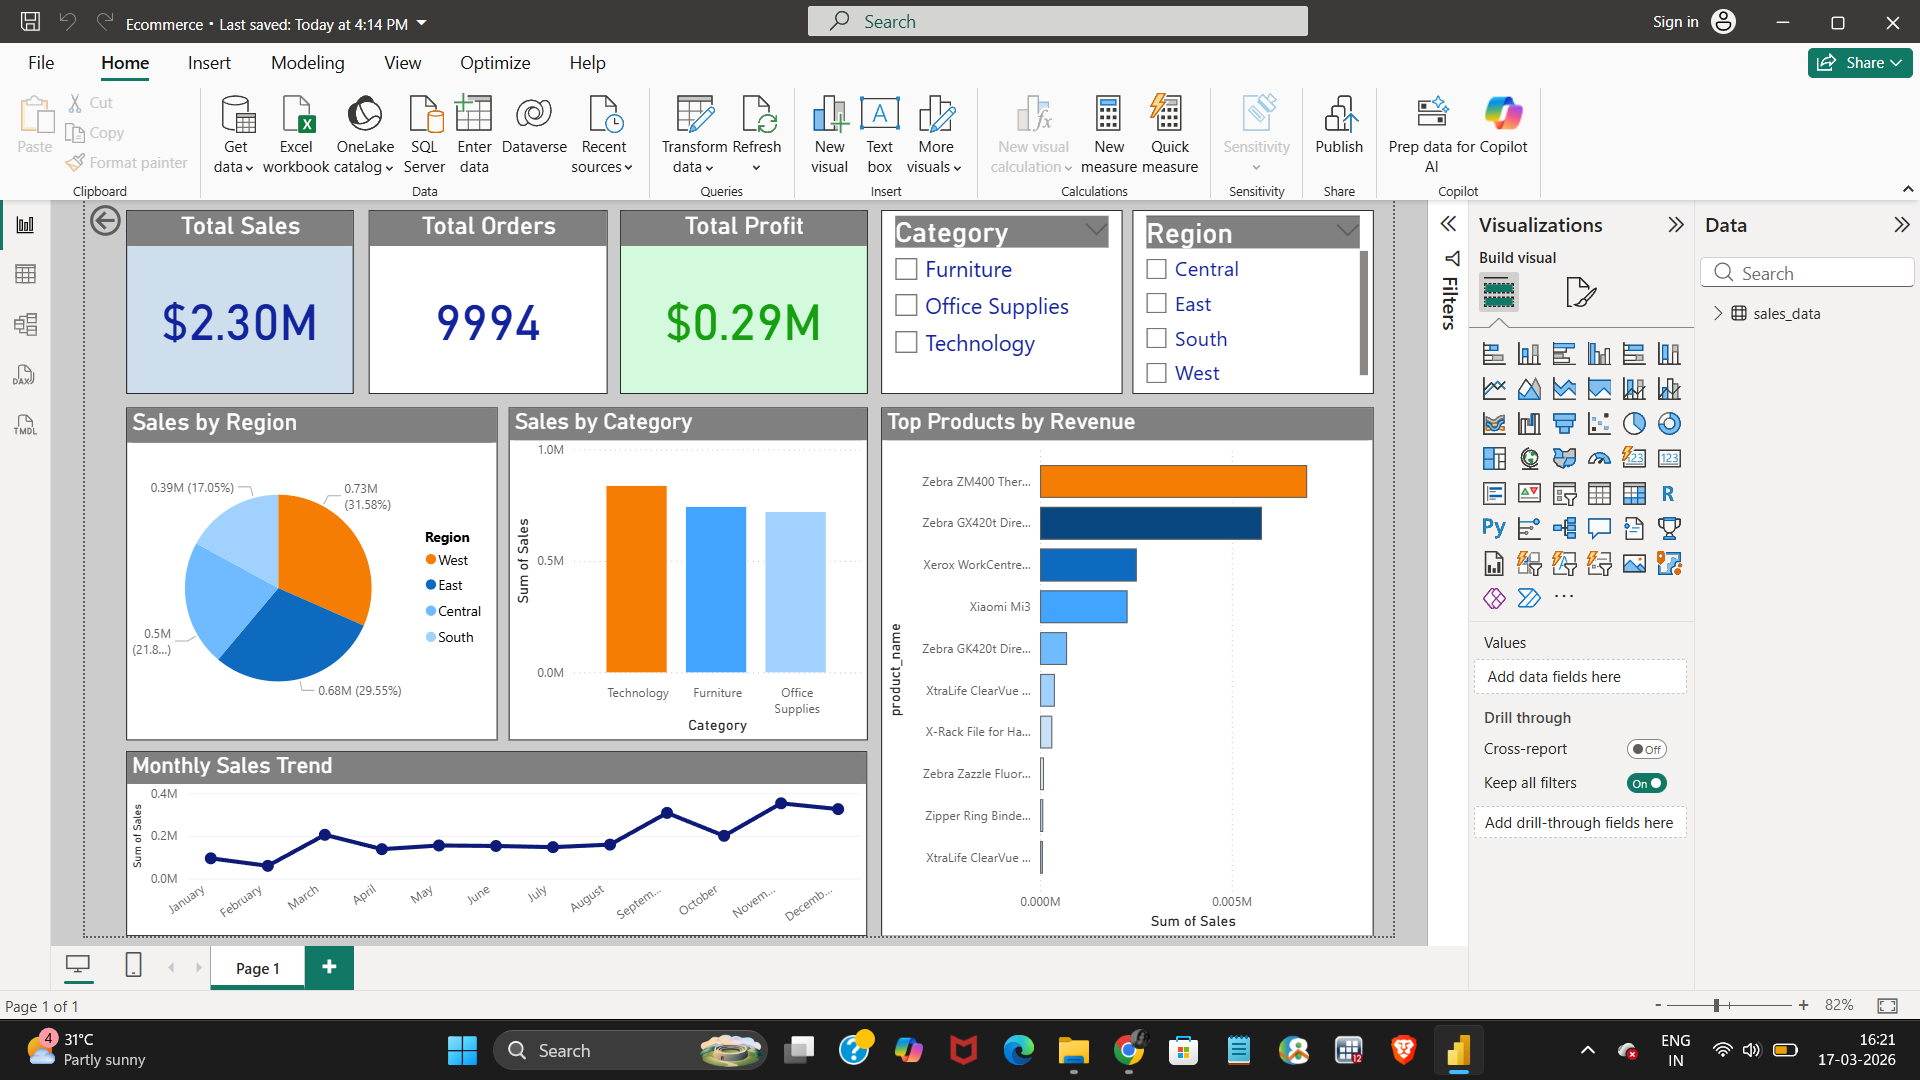

This screenshot's page, from the dashboard's own definition file:
{"tool":"powerbi","page":{"name":"Page 1","canvas":[1280,720],"ordinal":0},"visuals":[{"type":"pieChart","title":"Sales by Region","fields":{"Category":["sales_data.Region"],"Y":["Sum(sales_data.Sales)"]},"box":[40.4,203,363.2,325.3],"z":0},{"type":"actionButton","box":[0,0,100,40],"z":1000},{"type":"lineChart","title":"Monthly Sales Trend","fields":{"Category":["sales_data.order_date.Variation.Date Hierarchy.Month"],"Y":["Sum(sales_data.Sales)"]},"box":[40.4,539.3,725.1,181],"z":2000},{"type":"clusteredBarChart","title":"Top Products by Revenue","fields":{"Category":["sales_data.product_name"],"Y":["Sum(sales_data.Sales)"]},"box":[778.9,203,481.8,517.3],"z":3000},{"type":"card","title":"Total Sales","fields":{"Values":["Sum(sales_data.Sales)"]},"box":[40.4,9.8,222.6,179.8],"z":4000},{"type":"card","title":"Total Orders","fields":{"Values":["CountNonNull(sales_data.order_id)"]},"box":[277.6,9.8,233.6,179.8],"z":5000},{"type":"card","title":"Total Profit","fields":{"Values":["Sum(sales_data.Profit)"]},"box":[523.4,9.8,242.1,179.8],"z":6000},{"type":"slicer","fields":{"Values":["sales_data.Region"]},"box":[1024.7,9.8,236,179.8],"z":7000},{"type":"slicer","fields":{"Values":["sales_data.Category"]},"box":[778.9,9.8,236,179.8],"z":8000},{"type":"clusteredColumnChart","title":"Sales by Category","fields":{"Category":["sales_data.Category"],"Y":["Sum(sales_data.Sales)"]},"box":[414.5,203,351,325.3],"z":9000}]}

Visuals, with their boxes on the page's 1280x720 design canvas (x1, y1, x2, y2). These are canvas units, not pixel positions in the 1920x1080 screenshot, which may show the page scaled, cropped or inside an application window:
"Sales by Region" pieChart: rect(40, 203, 404, 528)
actionButton: rect(0, 0, 100, 40)
"Monthly Sales Trend" lineChart: rect(40, 539, 766, 720)
"Top Products by Revenue" clusteredBarChart: rect(779, 203, 1261, 720)
"Total Sales" card: rect(40, 10, 263, 190)
"Total Orders" card: rect(278, 10, 511, 190)
"Total Profit" card: rect(523, 10, 766, 190)
slicer - sales_data.Region: rect(1025, 10, 1261, 190)
slicer - sales_data.Category: rect(779, 10, 1015, 190)
"Sales by Category" clusteredColumnChart: rect(414, 203, 766, 528)
